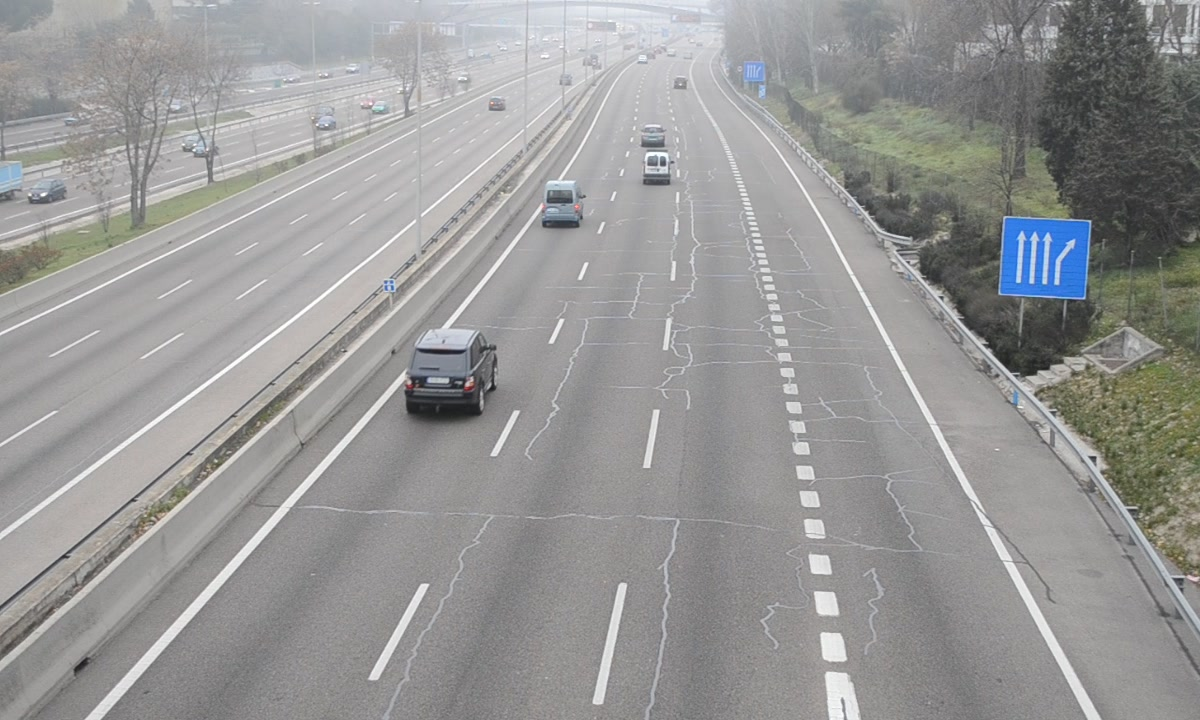car: (403, 330, 498, 409)
van: (542, 179, 581, 224), (643, 149, 672, 187)
